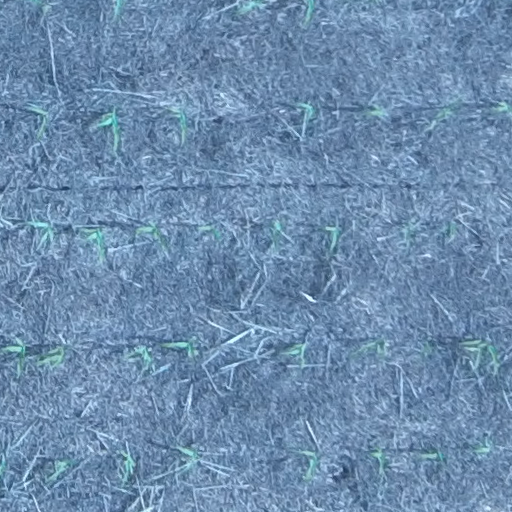planta: (92, 99, 126, 159), (458, 336, 503, 374), (74, 223, 109, 264), (130, 219, 172, 253), (157, 332, 201, 361), (42, 454, 79, 488), (22, 215, 60, 248), (25, 98, 53, 142), (30, 342, 70, 371), (124, 343, 160, 375), (349, 334, 391, 360), (166, 102, 193, 142), (295, 446, 322, 484), (115, 449, 138, 491), (175, 442, 203, 476), (280, 340, 310, 371), (431, 95, 462, 123), (320, 222, 344, 257), (366, 443, 390, 477), (265, 217, 287, 253), (293, 98, 319, 128), (194, 219, 225, 244), (468, 434, 497, 458), (415, 447, 449, 464), (438, 218, 460, 239), (400, 220, 419, 244), (362, 101, 387, 119), (417, 339, 435, 359)
